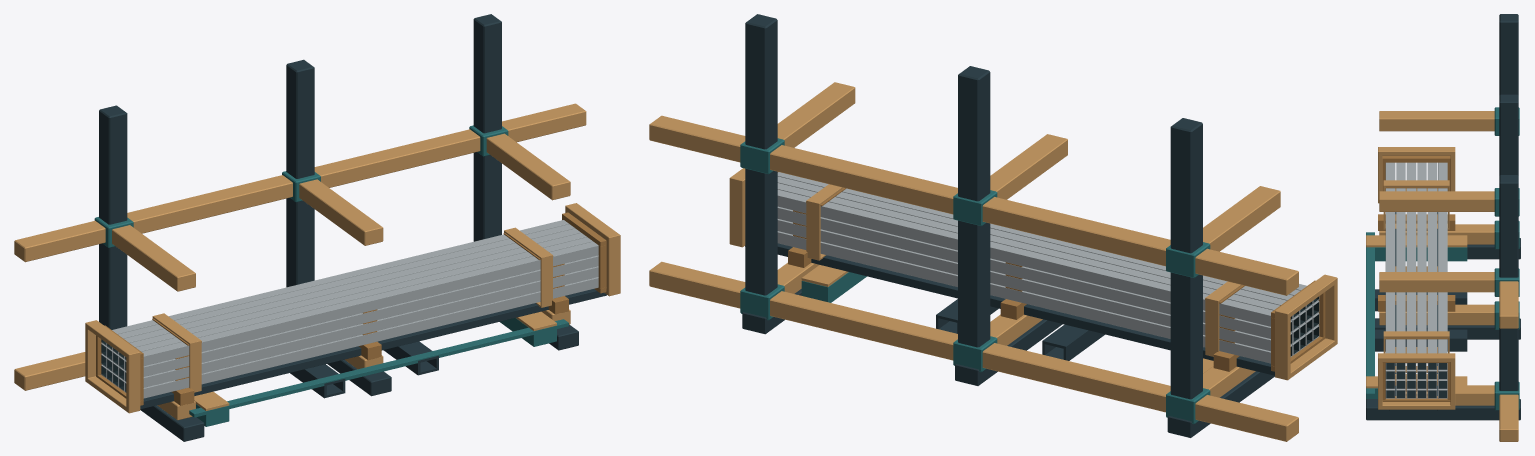
File: long-rack-loaded-fixture.glb
3 views of the same model, side by side, from view 1: azimuth 30°, elevation 25°; view 2: azimuth 150°, elevation 25°; view 3: azimuth 270°, elevation 25° (orthographic). The views are drawn at different scales.
Visible parts, largest first — view 1: long-rack-loaded-fixture__batch_04, long-rack-loaded-fixture__batch_07, long-rack-loaded-fixture__batch_09, long-rack-loaded-fixture__batch_05, long-rack-loaded-fixture__batch_06, long-rack-loaded-fixture__batch_00, long-rack-loaded-fixture__batch_03, long-rack-loaded-fixture__batch_02, long-rack-loaded-fixture__batch_08, long-rack-loaded-fixture__batch_01; view 2: long-rack-loaded-fixture__batch_07, long-rack-loaded-fixture__batch_04, long-rack-loaded-fixture__batch_09, long-rack-loaded-fixture__batch_05, long-rack-loaded-fixture__batch_08, long-rack-loaded-fixture__batch_06, long-rack-loaded-fixture__batch_03, long-rack-loaded-fixture__batch_02, long-rack-loaded-fixture__batch_00, long-rack-loaded-fixture__batch_01; view 3: long-rack-loaded-fixture__batch_07, long-rack-loaded-fixture__batch_04, long-rack-loaded-fixture__batch_09, long-rack-loaded-fixture__batch_05, long-rack-loaded-fixture__batch_03, long-rack-loaded-fixture__batch_00, long-rack-loaded-fixture__batch_08, long-rack-loaded-fixture__batch_02, long-rack-loaded-fixture__batch_01, long-rack-loaded-fixture__batch_06.
Boxes of the visible parts, box(x1,y1,x2,y2) form: long-rack-loaded-fixture__batch_04: box(101, 220, 598, 398); long-rack-loaded-fixture__batch_07: box(14, 103, 586, 420); long-rack-loaded-fixture__batch_09: box(99, 14, 578, 441); long-rack-loaded-fixture__batch_05: box(85, 203, 620, 413); long-rack-loaded-fixture__batch_06: box(140, 289, 606, 409); long-rack-loaded-fixture__batch_00: box(189, 318, 568, 426); long-rack-loaded-fixture__batch_03: box(96, 212, 606, 405); long-rack-loaded-fixture__batch_02: box(290, 341, 438, 398); long-rack-loaded-fixture__batch_08: box(94, 125, 508, 247); long-rack-loaded-fixture__batch_01: box(194, 311, 556, 410); long-rack-loaded-fixture__batch_07: box(649, 82, 1298, 441); long-rack-loaded-fixture__batch_04: box(777, 172, 1319, 363); long-rack-loaded-fixture__batch_09: box(742, 14, 1274, 437); long-rack-loaded-fixture__batch_05: box(729, 168, 1337, 380); long-rack-loaded-fixture__batch_08: box(740, 138, 1210, 423); long-rack-loaded-fixture__batch_06: box(745, 243, 1274, 375); long-rack-loaded-fixture__batch_03: box(777, 172, 1325, 371); long-rack-loaded-fixture__batch_02: box(936, 299, 1104, 360); long-rack-loaded-fixture__batch_00: box(801, 272, 866, 302); long-rack-loaded-fixture__batch_01: box(801, 265, 1213, 373); long-rack-loaded-fixture__batch_07: box(1379, 111, 1518, 441); long-rack-loaded-fixture__batch_04: box(1385, 162, 1447, 398); long-rack-loaded-fixture__batch_09: box(1366, 14, 1520, 420); long-rack-loaded-fixture__batch_05: box(1378, 147, 1455, 409); long-rack-loaded-fixture__batch_03: box(1378, 156, 1455, 401); long-rack-loaded-fixture__batch_00: box(1366, 232, 1467, 399); long-rack-loaded-fixture__batch_08: box(1494, 107, 1519, 410); long-rack-loaded-fixture__batch_02: box(1375, 289, 1467, 351); long-rack-loaded-fixture__batch_01: box(1366, 235, 1467, 388); long-rack-loaded-fixture__batch_06: box(1389, 212, 1443, 410).
Size of the model in its own units: 4.8 by 2.2 by 1.3.
